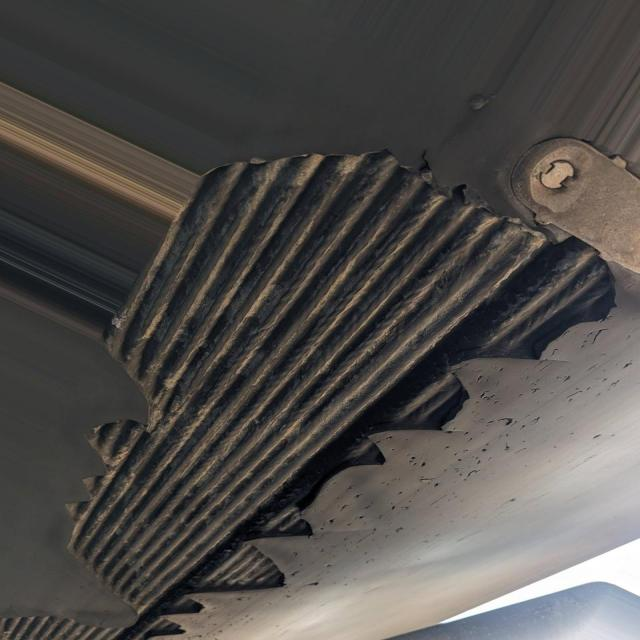Tear: (0, 139, 629, 639)
